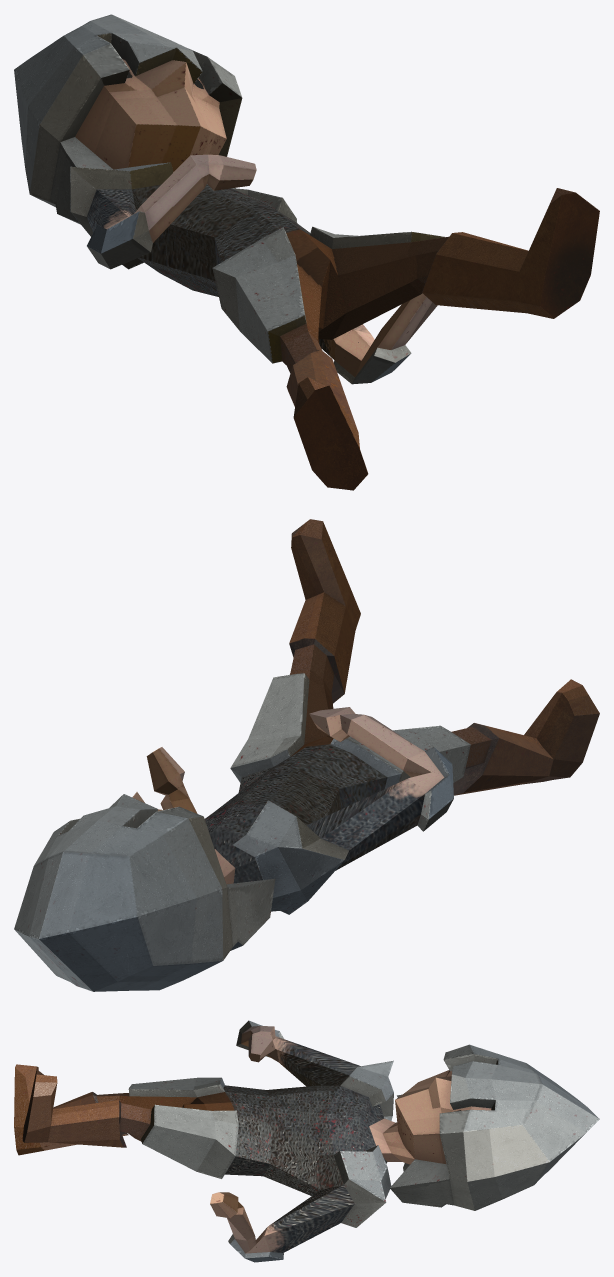
File: Walk_Soldier_13.obj
The picture shows the model from 3 angles, top to bottom: view 1: azimuth 30°, elevation 25°; view 2: azimuth 150°, elevation 25°; view 3: azimuth 270°, elevation 25°; orthographic projection. The views are drawn at different scales.
Visible parts, largest first — view 1: Soldado_LowPolySTD; view 2: Soldado_LowPolySTD; view 3: Soldado_LowPolySTD.
Boxes of the visible parts, x1=… form: Soldado_LowPolySTD: x1=14, y1=14, x2=599, y2=490; Soldado_LowPolySTD: x1=14, y1=519, x2=599, y2=991; Soldado_LowPolySTD: x1=14, y1=1020, x2=599, y2=1262.
Bounding box in the file's own units: 0.7731 × 0.614 × 1.59.
